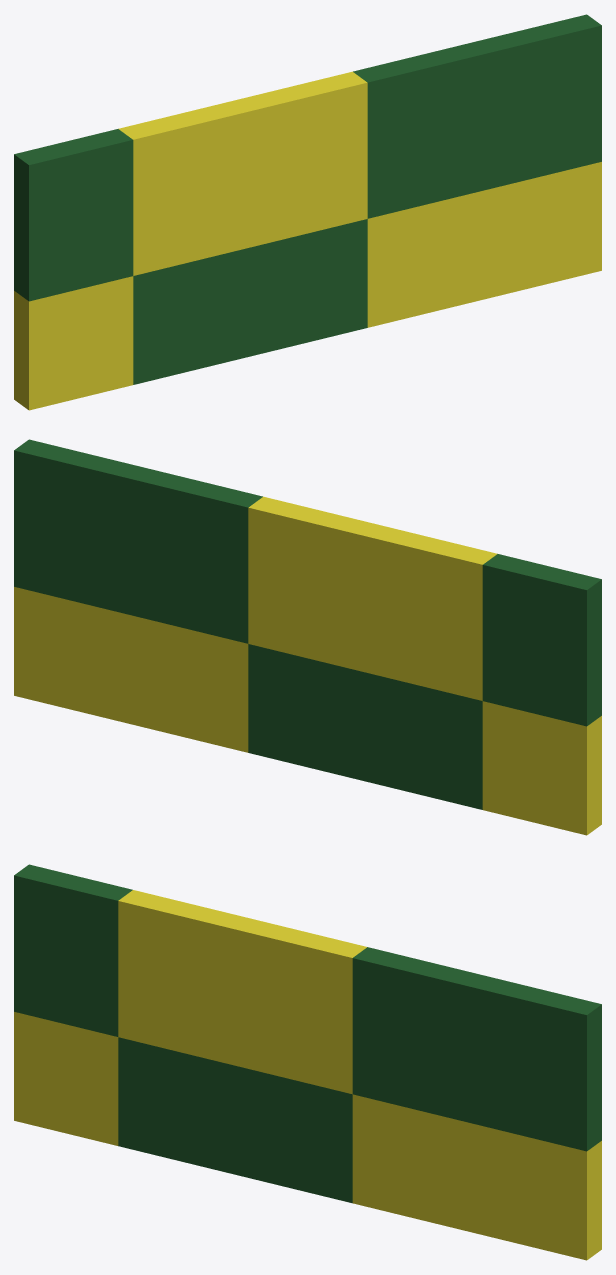
The model's file is ambulance_door_markings.glb.
3 renders of one model, top to bottom at view 1: azimuth 30°, elevation 25°; view 2: azimuth 150°, elevation 25°; view 3: azimuth 330°, elevation 25°, orthographic.
Visible parts, largest first — view 1: body:compound; view 2: body:compound; view 3: body:compound.
Part boxes in pixels (x1=…): body:compound: x1=14, y1=14, x2=601, y2=410; body:compound: x1=14, y1=439, x2=601, y2=835; body:compound: x1=14, y1=864, x2=601, y2=1260.
Bounding box in the file's own units: 0.6875 × 0.2812 × 0.0312.
